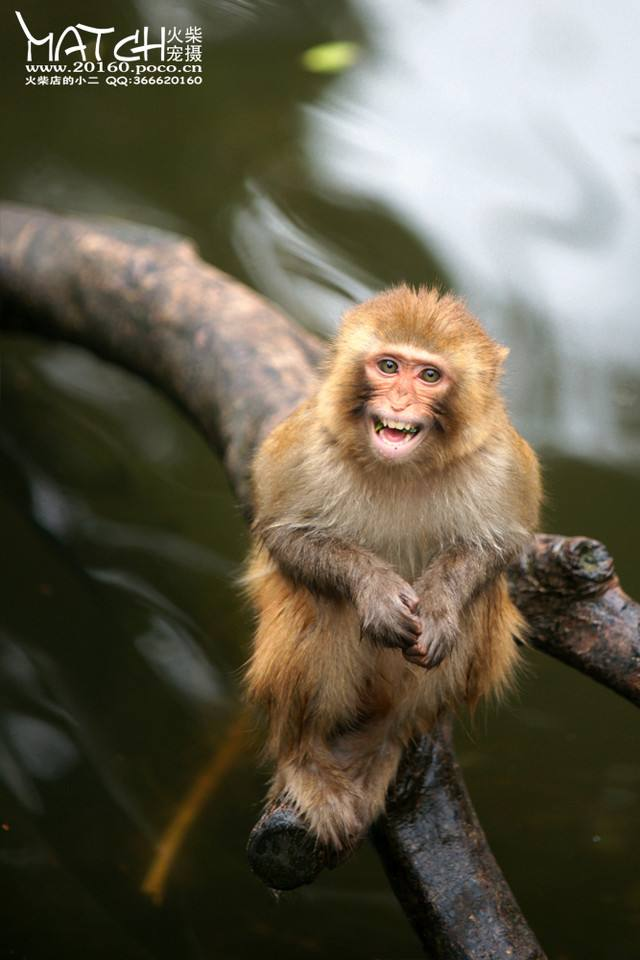monkey: (167, 240, 565, 851)
